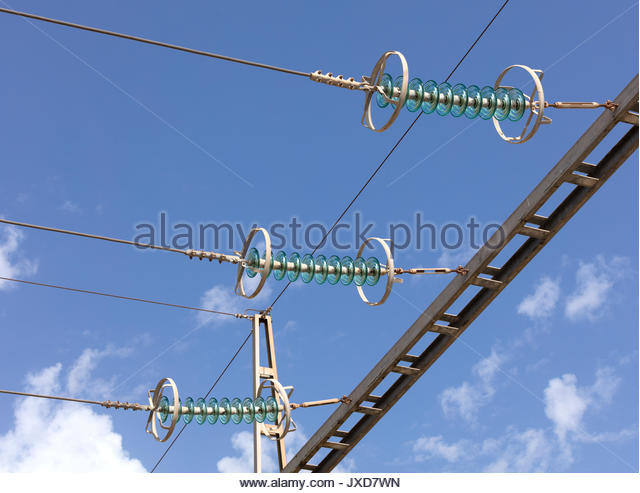isolator: (375, 73, 526, 123), (243, 246, 381, 288), (156, 395, 279, 425)
